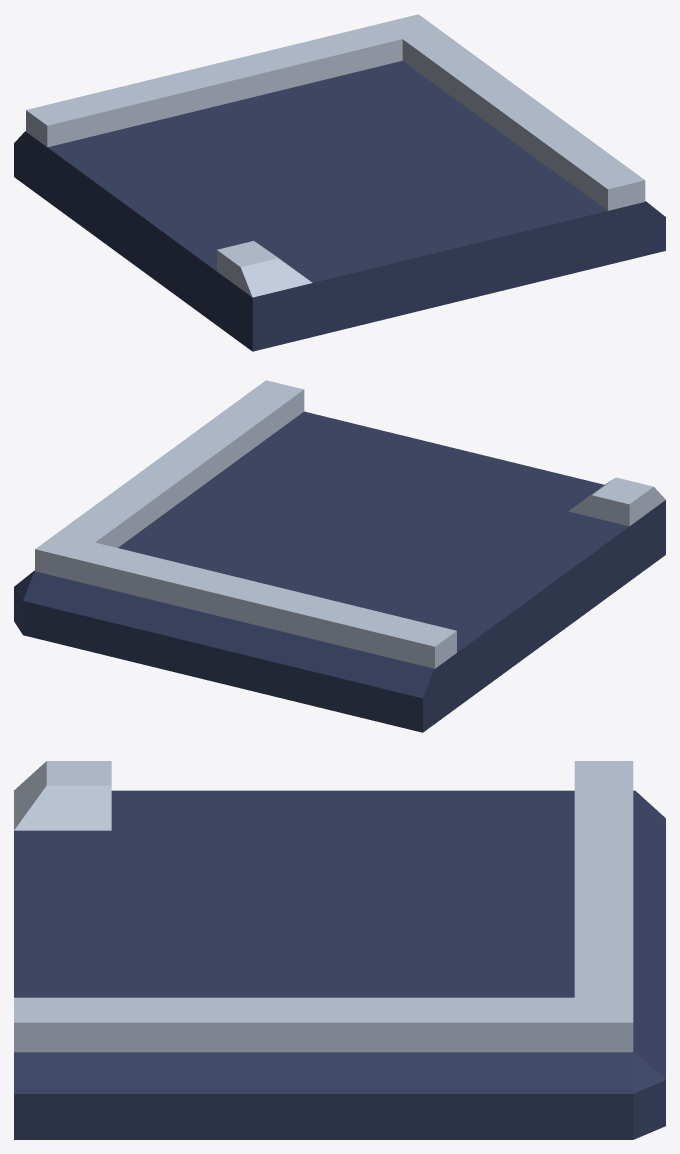
The model's file is base_inner_corner_1x1.fbx.
The picture shows the model from 3 angles, top to bottom: view 1: azimuth 30°, elevation 25°; view 2: azimuth 150°, elevation 25°; view 3: azimuth 270°, elevation 25°; orthographic projection. The views are drawn at different scales.
Parts seen in each view (by area): view 1: base_inner_corner_1x1; view 2: base_inner_corner_1x1; view 3: base_inner_corner_1x1.
Part boxes in pixels (x1,y1,x2,y2): base_inner_corner_1x1: (14, 14, 665, 351); base_inner_corner_1x1: (14, 380, 665, 732); base_inner_corner_1x1: (14, 761, 665, 1139).
Bounding box in the file's own units: 200 × 35 × 200.
